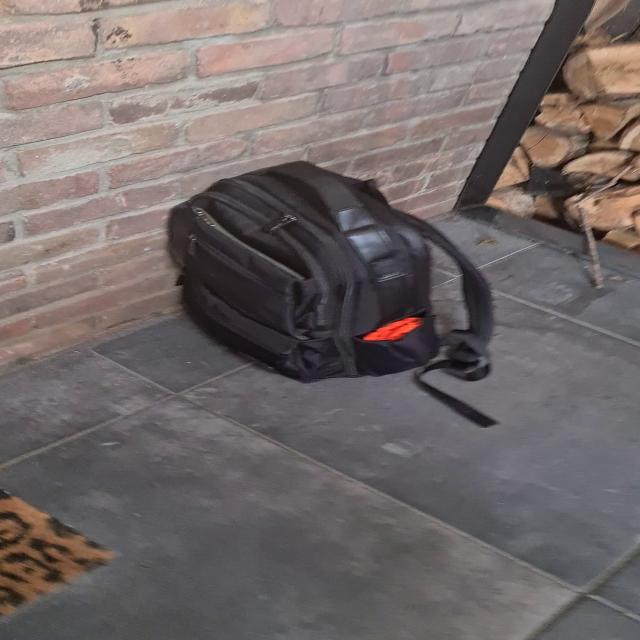backpack: (156, 153, 500, 390)
